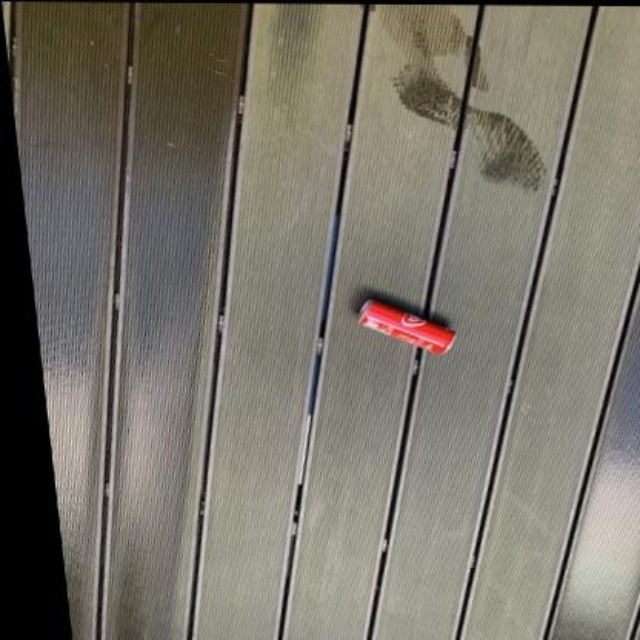trash: (358, 298, 454, 352)
